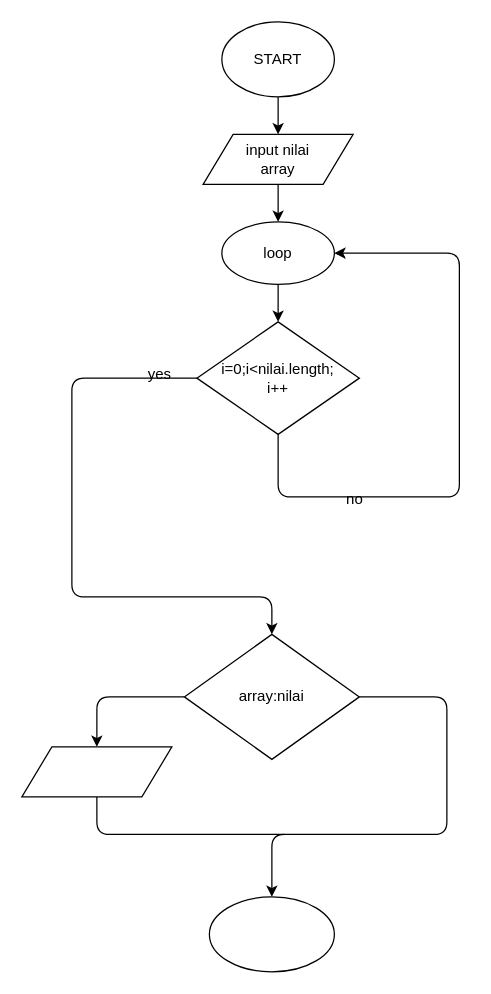
Some shapes in this 491 by 994 pixel diagram are drawn without their labels. Here are the shapes that lost their labels. From the top down, the centre of each, then its label:
point 96,771: nilai[i] < nilai. length
point 271,934: END
